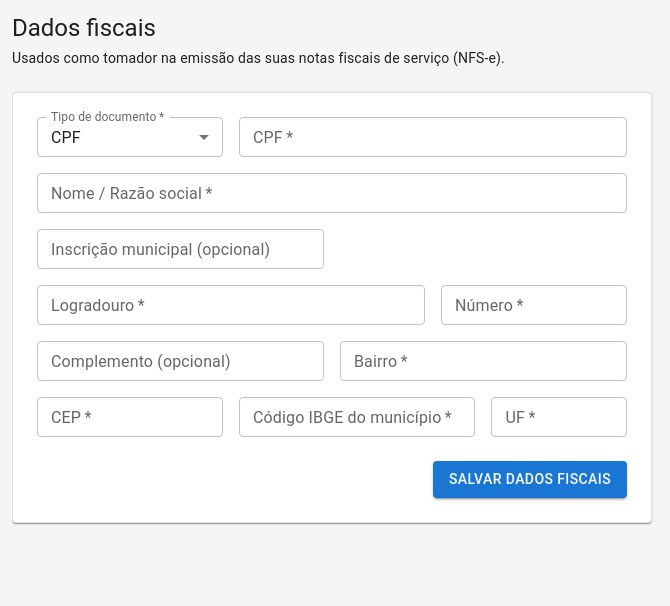
DadosFiscaisTreinadorPage › distingue CEP inexistente (404) do serviço indisponível na mensagem
Expected: the button "Salvar dados fiscais" is shown, [433,461,627,498]
In the field labelled "CEP *": x=130, y=417 [37,397,223,437], type "99999999"
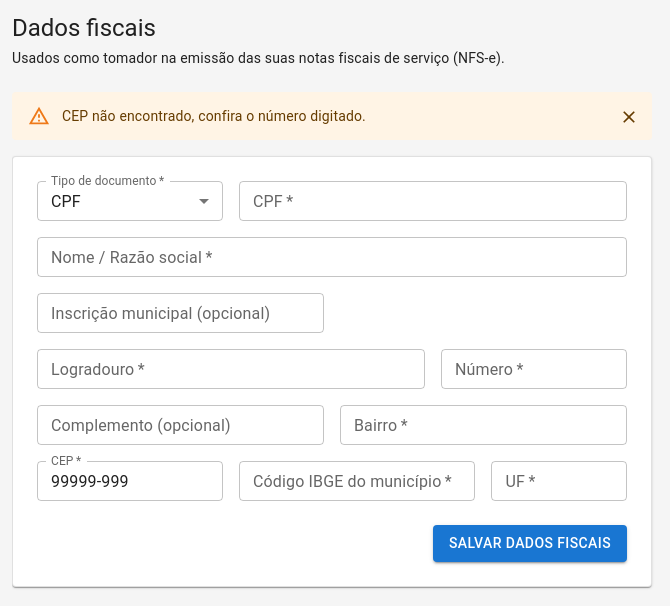
Expected: the text "CEP não encontrado, confira o número digitado." is shown, [62,108,366,124]
